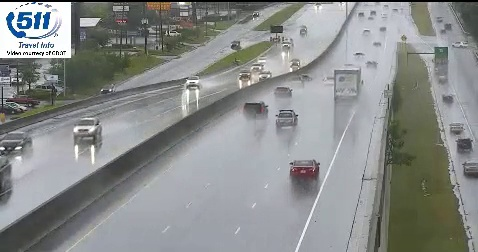car: (290, 160, 319, 178), (242, 102, 268, 119), (276, 110, 297, 126)
small-truck: (334, 67, 362, 103)
